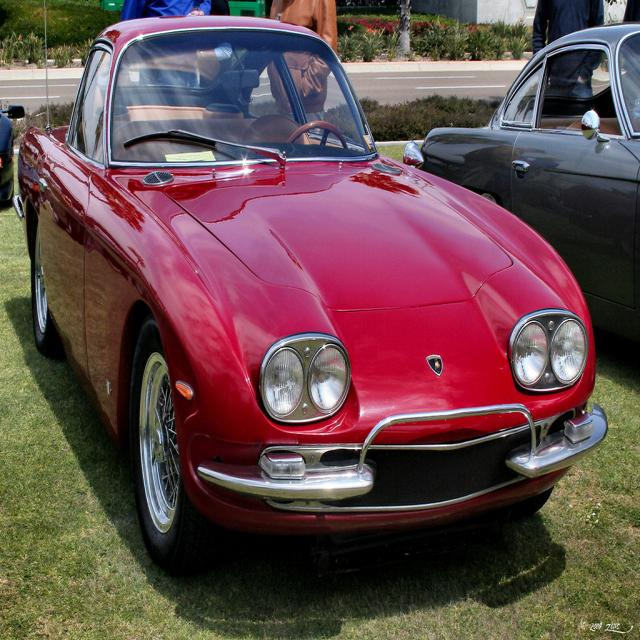car: (14, 0, 605, 575)
